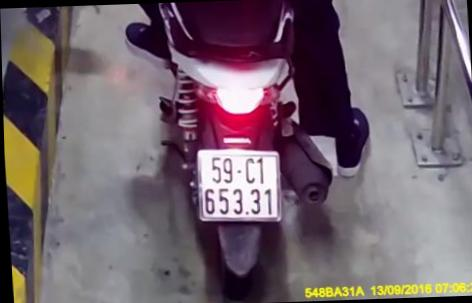LP: (193, 144, 284, 226)
